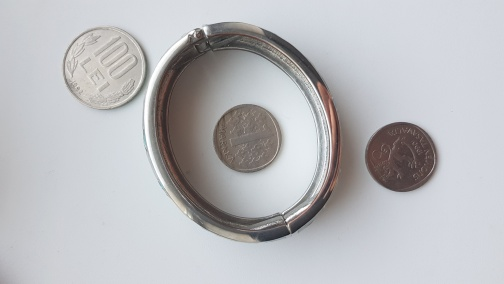coin: (62, 26, 147, 110), (364, 121, 437, 193), (212, 103, 281, 173)
